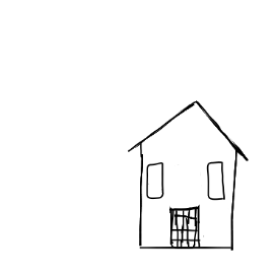bottom_placed_house: (1, 2, 260, 260)
door: (166, 201, 207, 253)
open_window: (202, 154, 230, 205), (144, 160, 168, 201)
single_line_roof: (124, 99, 253, 161)
small_house: (3, 5, 260, 260)
wall: (134, 145, 241, 254)
